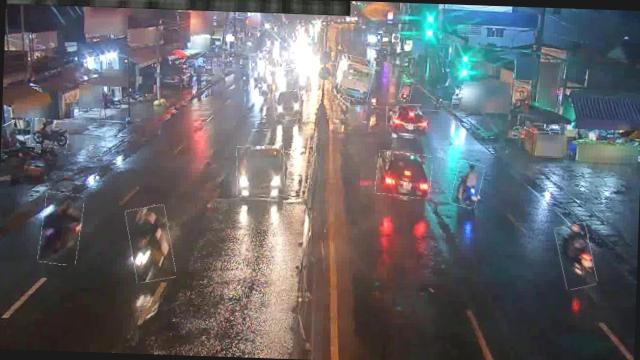Bike: (126, 205, 175, 283), (39, 192, 83, 266), (556, 224, 596, 290), (452, 162, 484, 208), (30, 119, 69, 146), (399, 80, 413, 102)
Bus: (332, 54, 375, 100)
Car: (375, 152, 433, 198), (236, 145, 286, 197), (386, 105, 426, 138), (272, 90, 301, 121)
